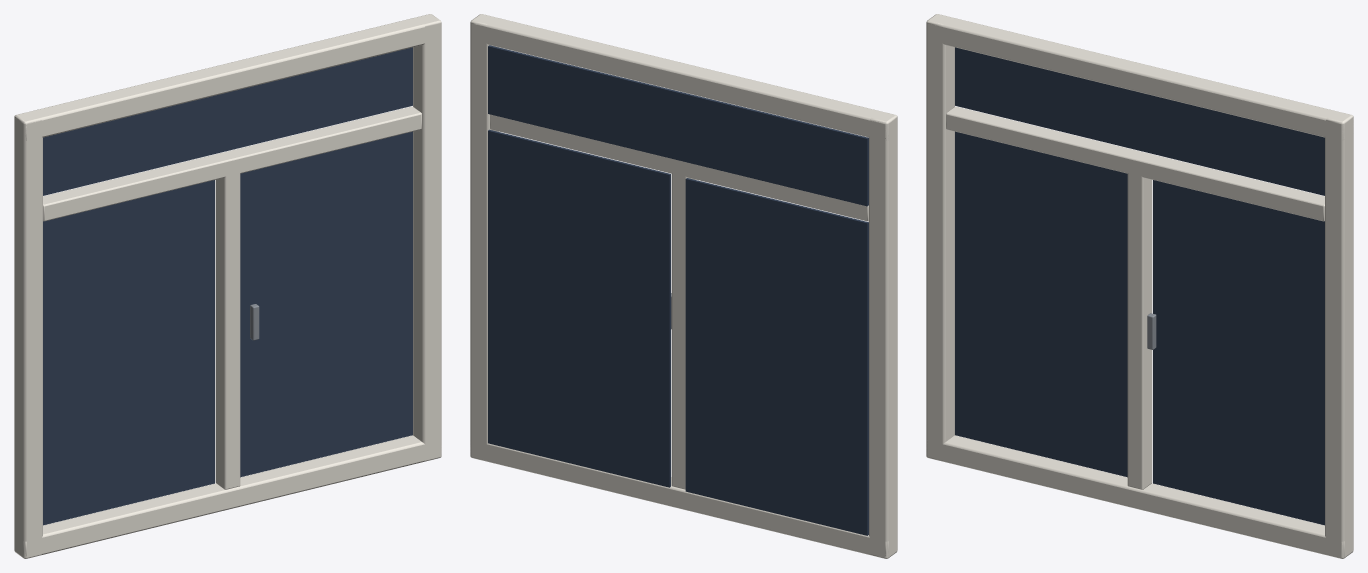
Rendered from shaft_window_wide.fbx.
The picture shows the model from 3 angles, left to right: view 1: azimuth 30°, elevation 25°; view 2: azimuth 150°, elevation 25°; view 3: azimuth 330°, elevation 25°; orthographic projection.
Visible parts, largest first — view 1: shaft_window_wide; view 2: shaft_window_wide; view 3: shaft_window_wide.
Boxes of the visible parts, x1=… form: shaft_window_wide: x1=14, y1=14, x2=441, y2=558; shaft_window_wide: x1=470, y1=14, x2=897, y2=558; shaft_window_wide: x1=926, y1=14, x2=1353, y2=558.
Size of the model in its own units: 1.3 by 0.084 by 1.3.
